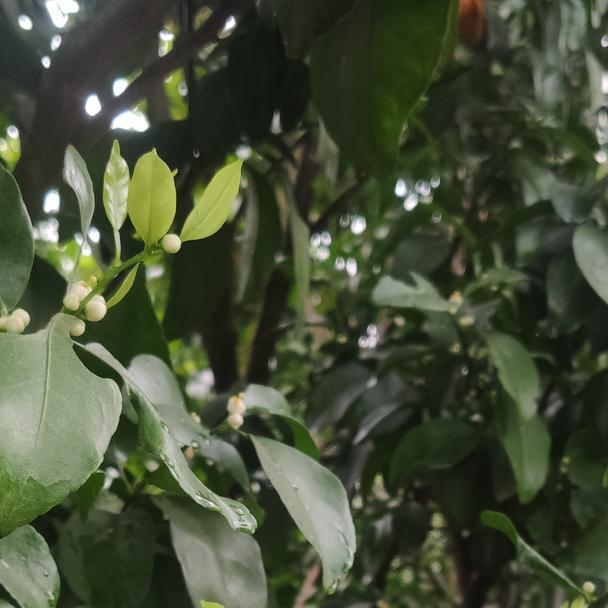shoot: (70, 148, 244, 306)
